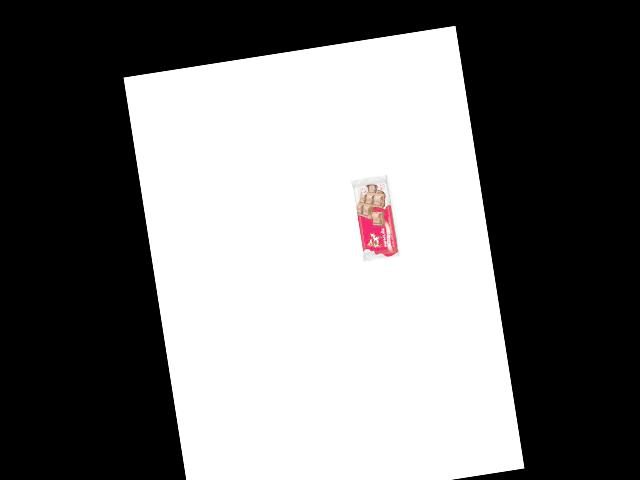chocolate: (349, 172, 400, 262)
